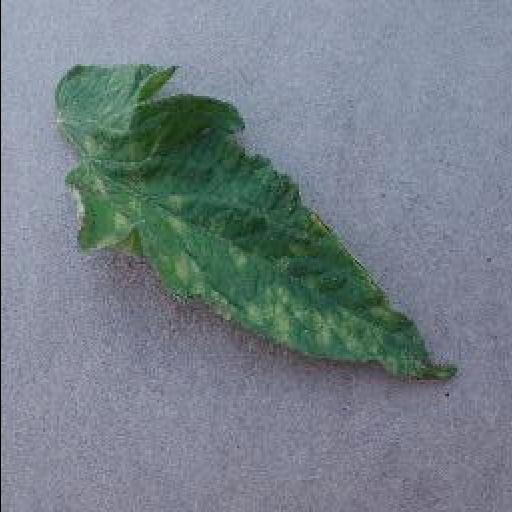disease_tomato: (54, 62, 458, 386)
